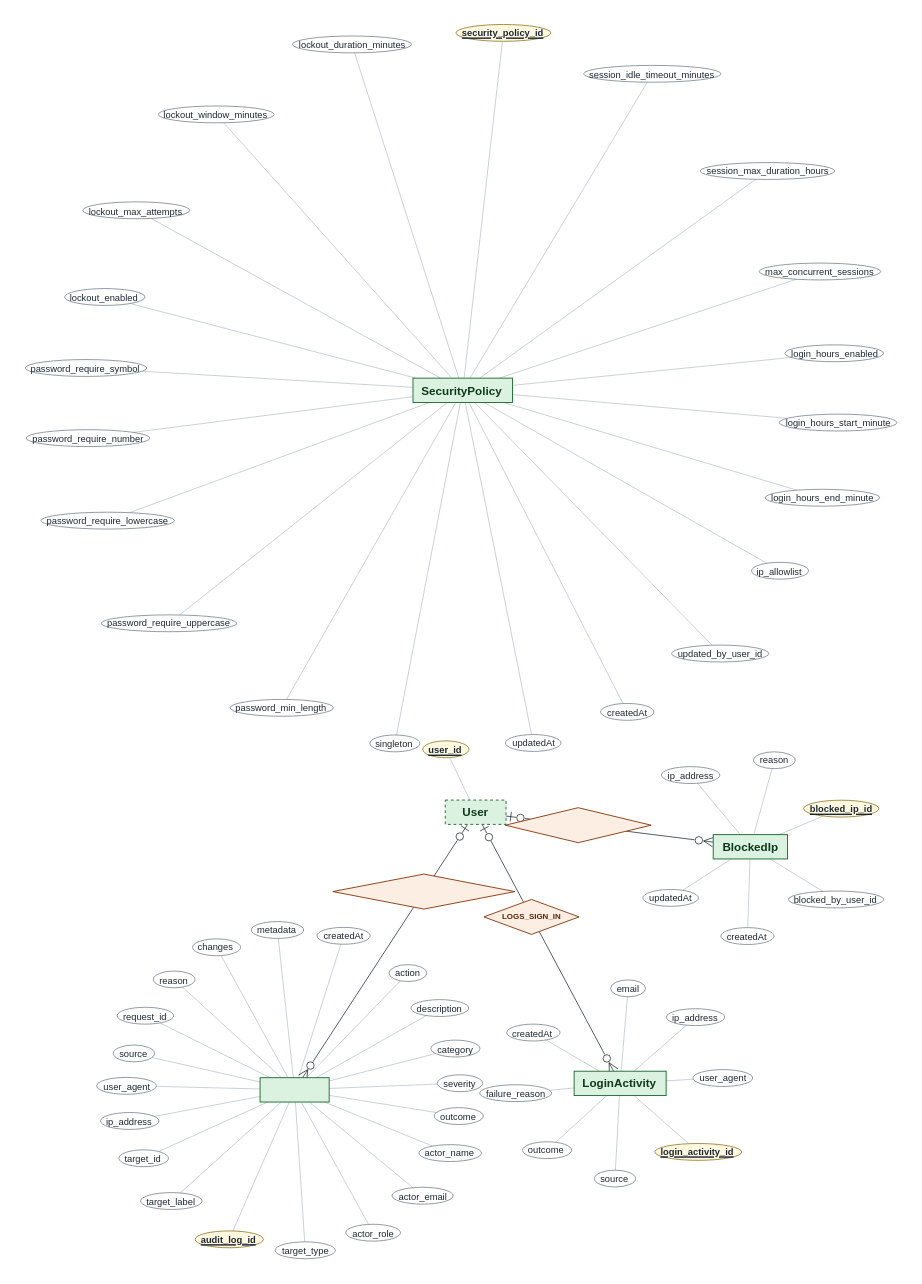
The diagram is 922 pixels wide and 1284 high, and some of its shapes have lost their labels. Here are the shapes that lost their labels. From the top down, the centre of each, then its label:
At [577,825]: "ORIGINATES_IP_BLOCK".
At [423,891]: "PERFORMS_AUDITED_ACTION".
At [294,1089]: "AuditLog".
